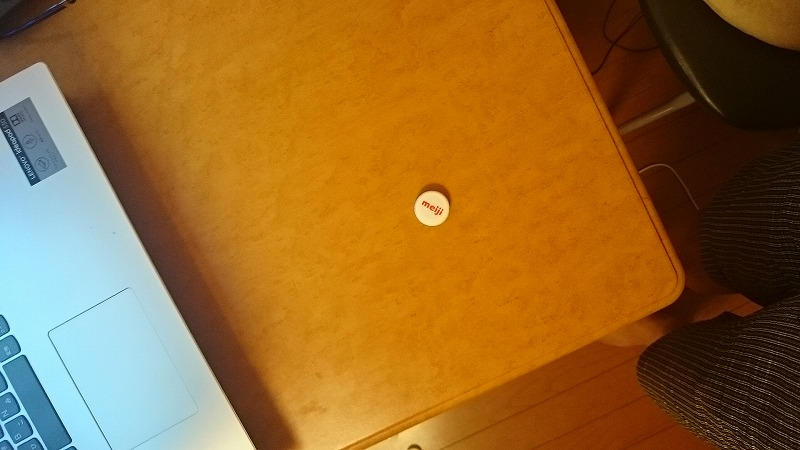B: (412, 190, 456, 230)
